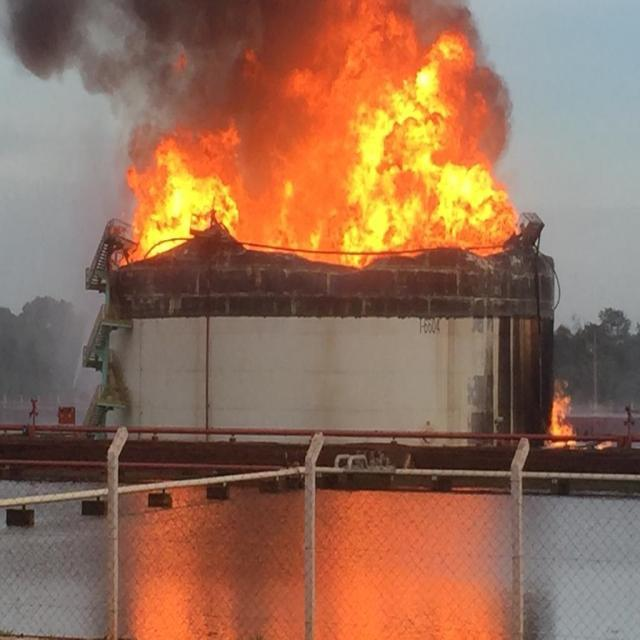Fire: (347, 32, 520, 268), (122, 129, 244, 266), (270, 158, 343, 260), (326, 0, 418, 58), (293, 58, 343, 157), (227, 180, 287, 248), (548, 373, 577, 448), (596, 436, 618, 449)
Smoke: (134, 0, 266, 127), (9, 0, 135, 93), (262, 0, 325, 59), (263, 50, 291, 158), (419, 1, 475, 29), (247, 124, 270, 188)
